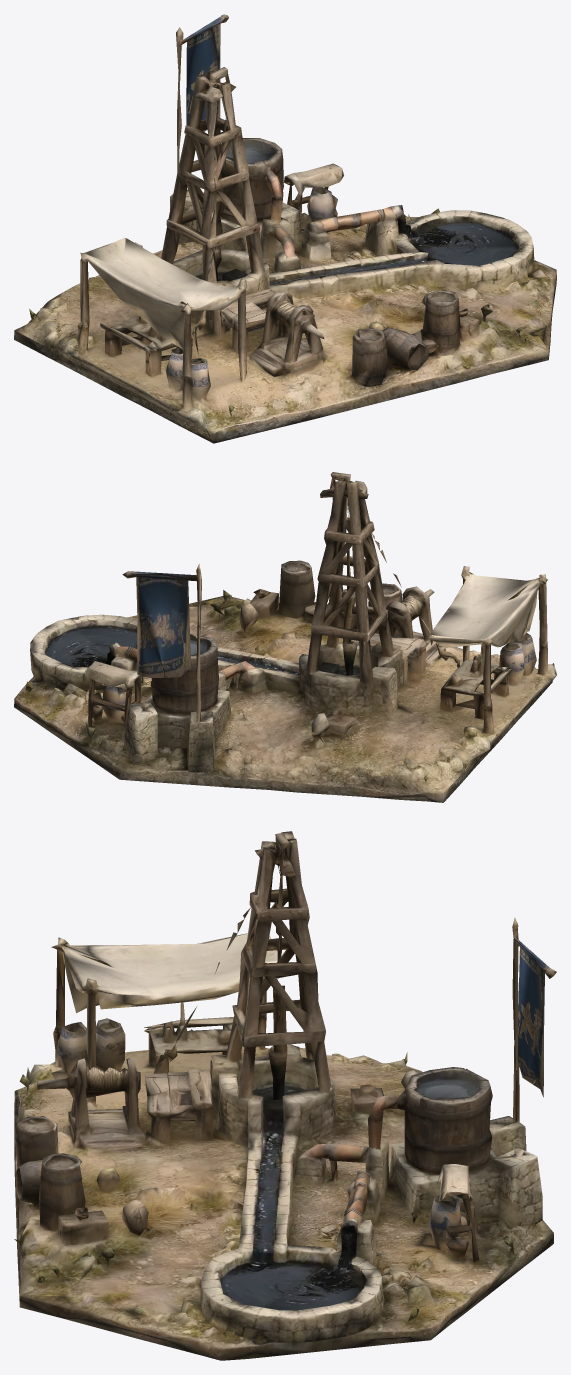
The model's file is oil_well_2.glb.
3 views of the same model, one above another, from view 1: azimuth 30°, elevation 25°; view 2: azimuth 150°, elevation 25°; view 3: azimuth 270°, elevation 25° (orthographic). The views are drawn at different scales.
Visible parts, largest first — view 1: tripo_node_f56a4fc4-a025-4db0-aa81-d0333b4d3391; view 2: tripo_node_f56a4fc4-a025-4db0-aa81-d0333b4d3391; view 3: tripo_node_f56a4fc4-a025-4db0-aa81-d0333b4d3391.
Boxes of the visible parts, x1,y1,x2,y2 form: tripo_node_f56a4fc4-a025-4db0-aa81-d0333b4d3391: [14, 14, 556, 443]; tripo_node_f56a4fc4-a025-4db0-aa81-d0333b4d3391: [14, 472, 556, 802]; tripo_node_f56a4fc4-a025-4db0-aa81-d0333b4d3391: [14, 831, 556, 1360].
Bounding box in the file's own units: 0.98 × 0.5329 × 0.7867.
1 material, 1 textured.
